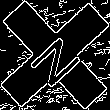N_NE: (23, 23, 87, 87)
